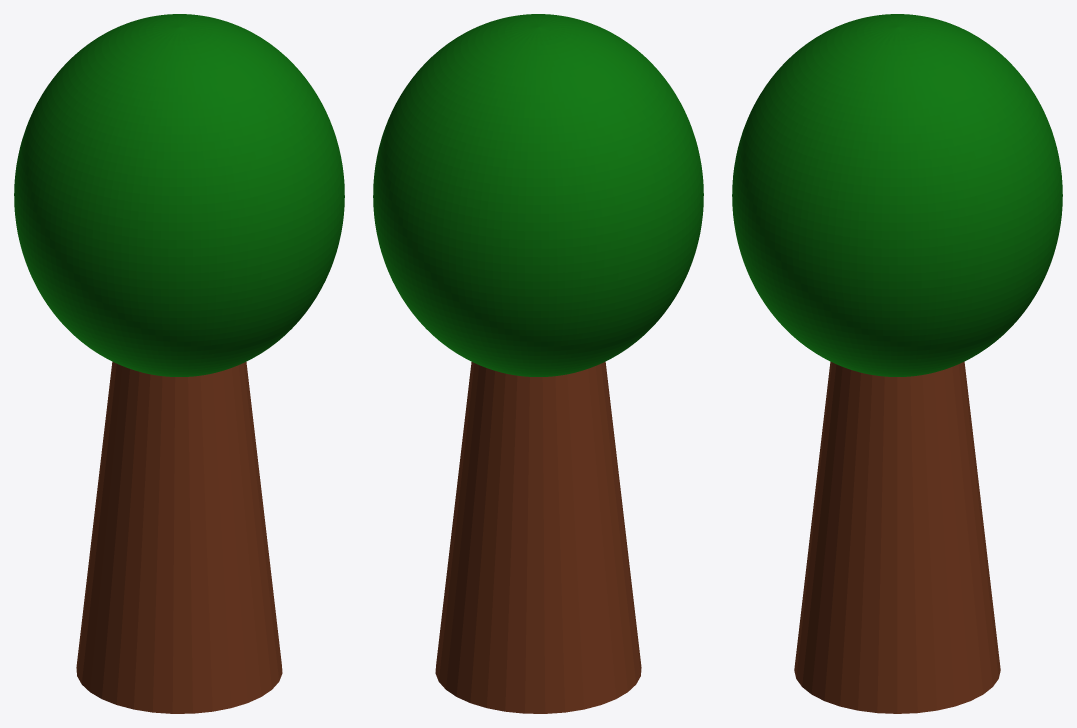
The model's file is Tree_leaf.fbx.
3 renders of one model, left to right at view 1: azimuth 30°, elevation 25°; view 2: azimuth 150°, elevation 25°; view 3: azimuth 270°, elevation 25°, orthographic.
Parts seen in each view (by area): view 1: Crown, Trunk; view 2: Crown, Trunk; view 3: Crown, Trunk.
Part boxes in pixels (x1,y1,x2,y2): Crown: (14,14,344,376); Trunk: (76,361,282,713); Crown: (373,14,703,376); Trunk: (435,361,641,713); Crown: (732,14,1062,376); Trunk: (794,361,1000,713).
Bounding box in the file's own units: 889 × 1906 × 889.
